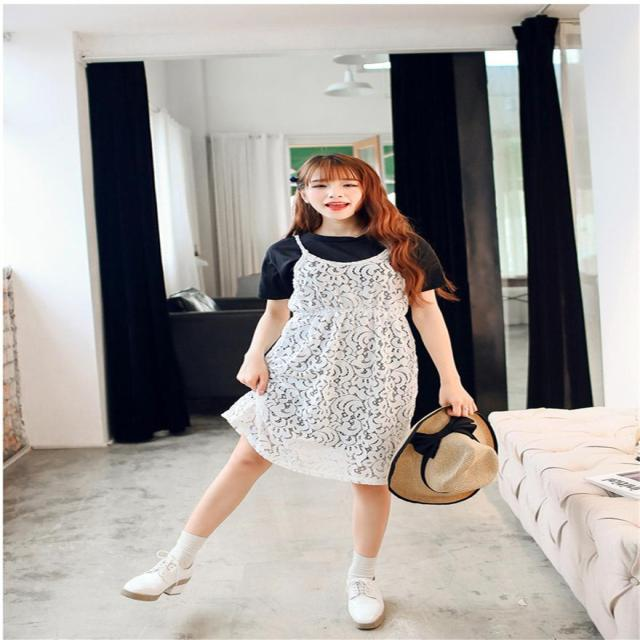short sleeve top: (258, 228, 446, 330)
sling dress: (221, 232, 420, 486)
